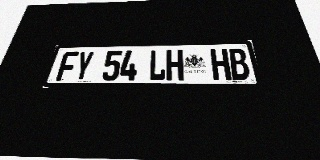4: (119, 50, 138, 81)
5: (102, 51, 122, 81)
B: (227, 48, 251, 80)
F: (55, 52, 79, 81)
H: (210, 49, 232, 80), (166, 49, 184, 80)
L: (148, 50, 166, 81)
Y: (72, 51, 95, 81)
